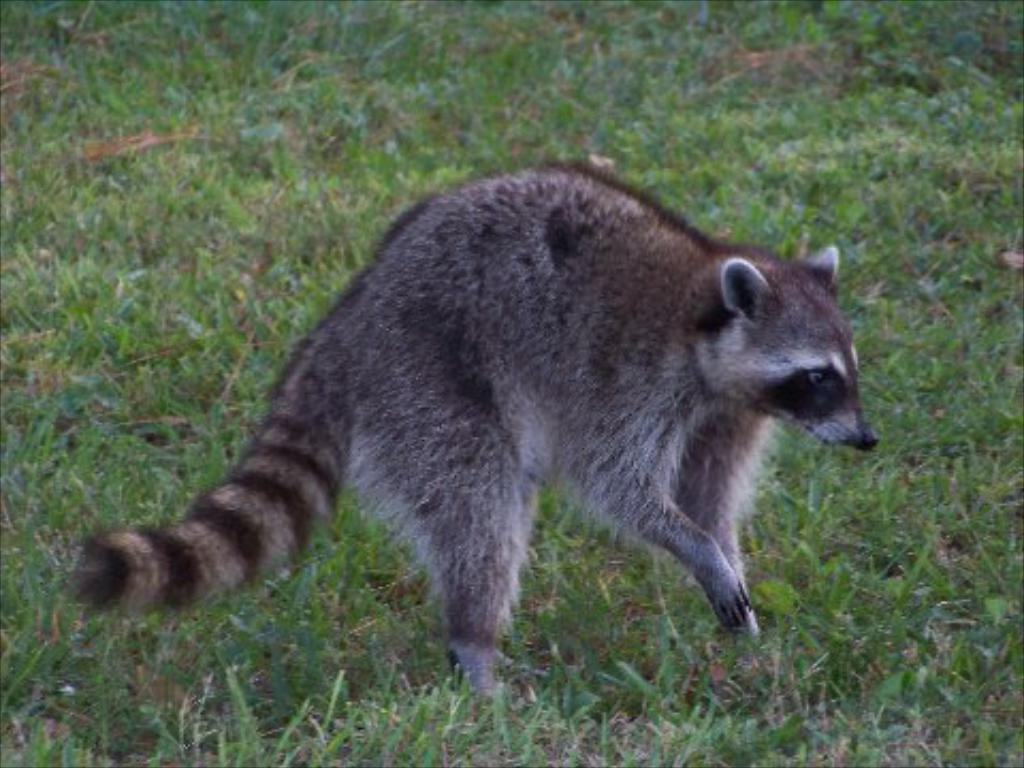raccoon: (78, 161, 884, 691)
